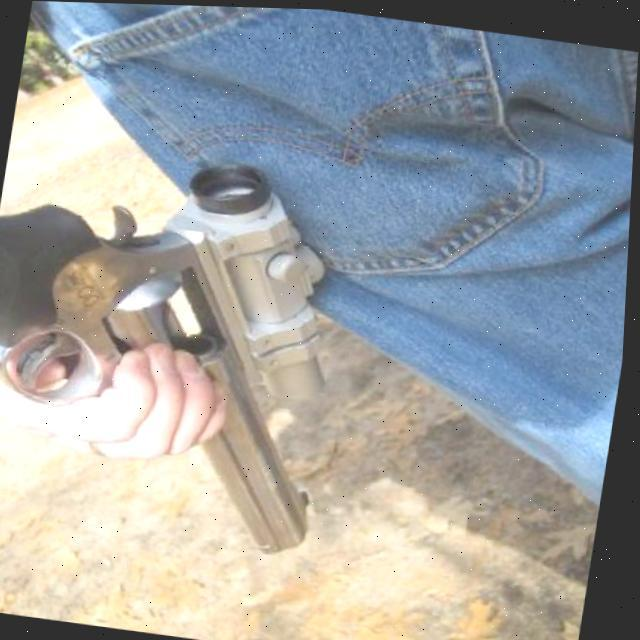gun: (0, 131, 365, 559)
